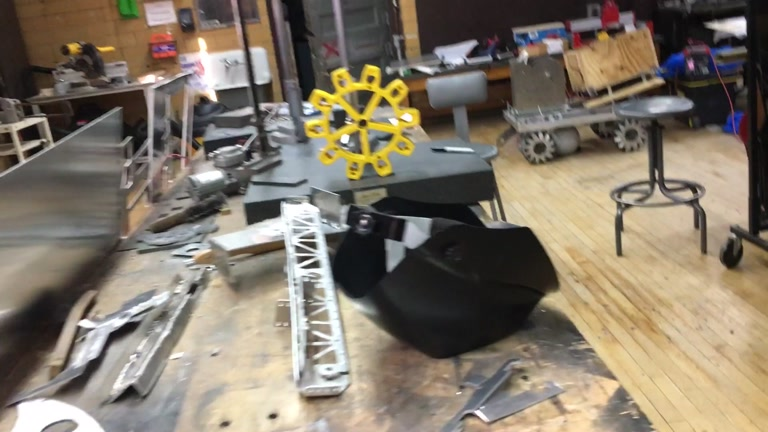gear: (304, 64, 420, 180)
